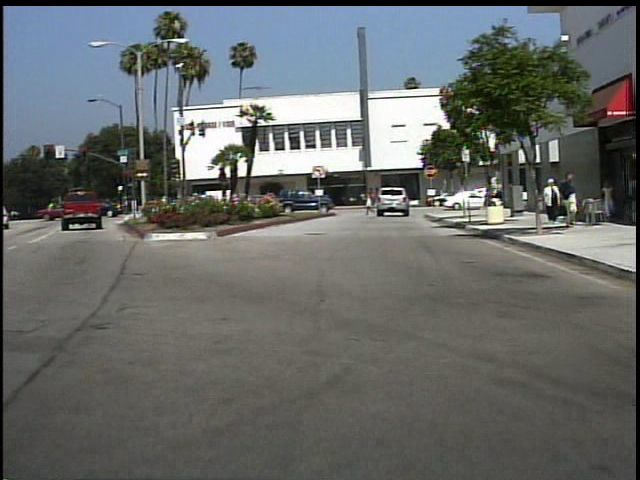person: (561, 172, 582, 230), (596, 178, 619, 225), (543, 178, 563, 225), (476, 181, 500, 214), (363, 187, 378, 218)
